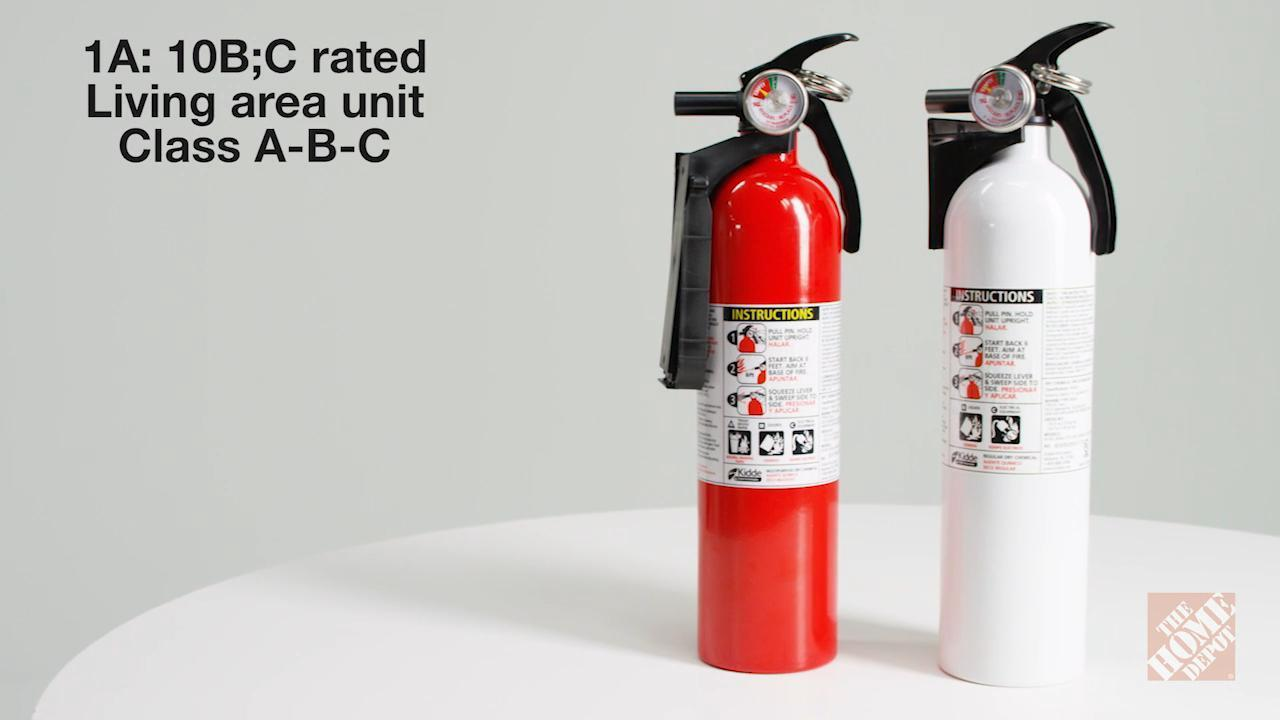wall-mounted: (656, 31, 870, 671), (917, 23, 1113, 683)
